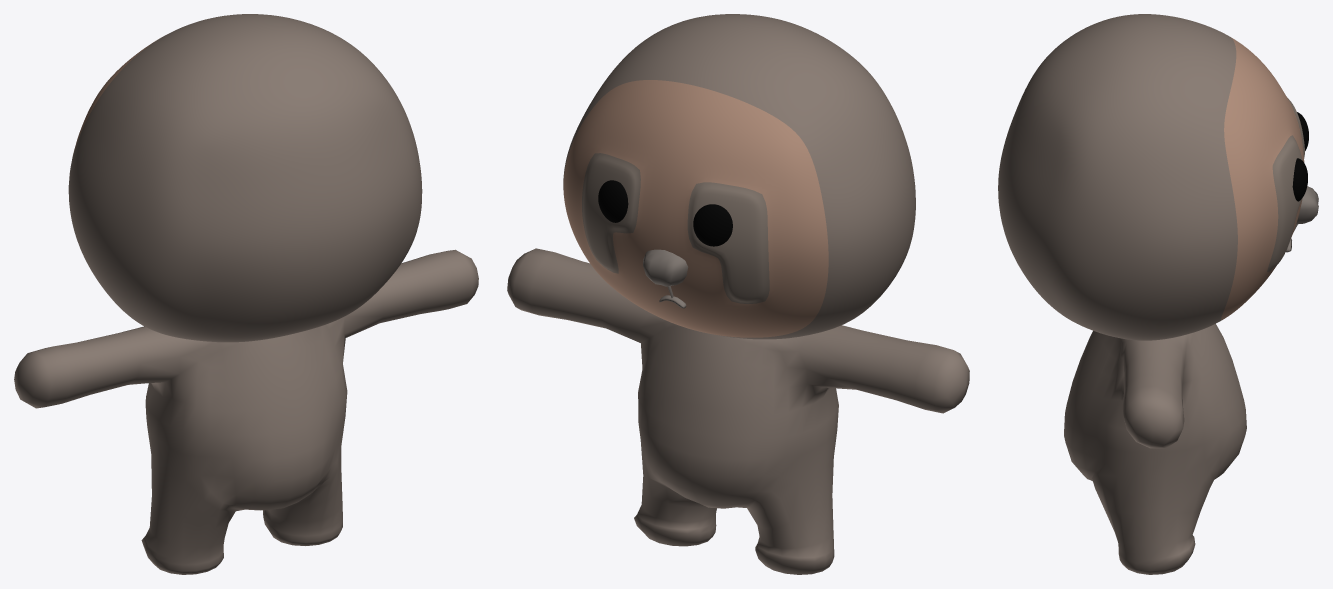
The model's file is sloth2.fbx.
3 views of the same model, side by side, from view 1: azimuth 30°, elevation 25°; view 2: azimuth 150°, elevation 25°; view 3: azimuth 270°, elevation 25° (orthographic). The views are drawn at different scales.
Visible parts, largest first — view 1: sloth2; view 2: sloth2; view 3: sloth2.
Part boxes in pixels (x1,y1,x2,y2): sloth2: (14,14,478,574); sloth2: (507,14,969,574); sloth2: (998,14,1318,574).
Bounding box in the file's own units: 39.91 × 43.49 × 25.15.
